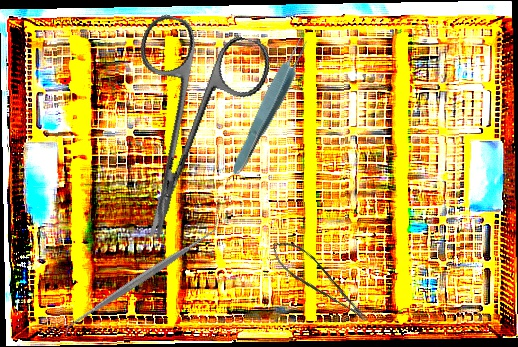Iris Scissors: (87, 9, 276, 256)
Micro Scissor: (265, 229, 372, 338)
Spatula Surgical: (56, 216, 228, 339)
Tissue Forceps: (225, 29, 317, 180)
